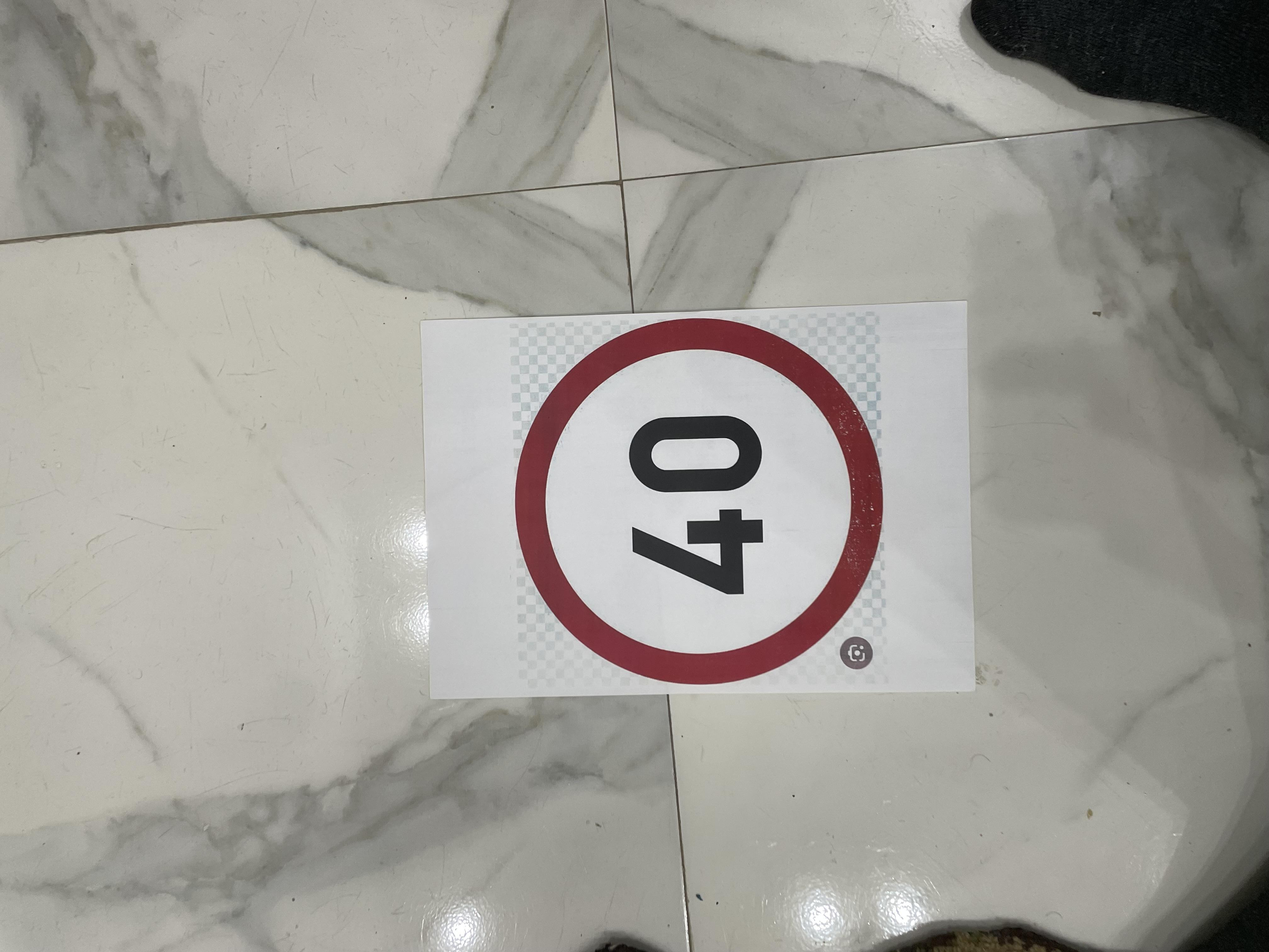40-Speed: (328, 374, 875, 668)
